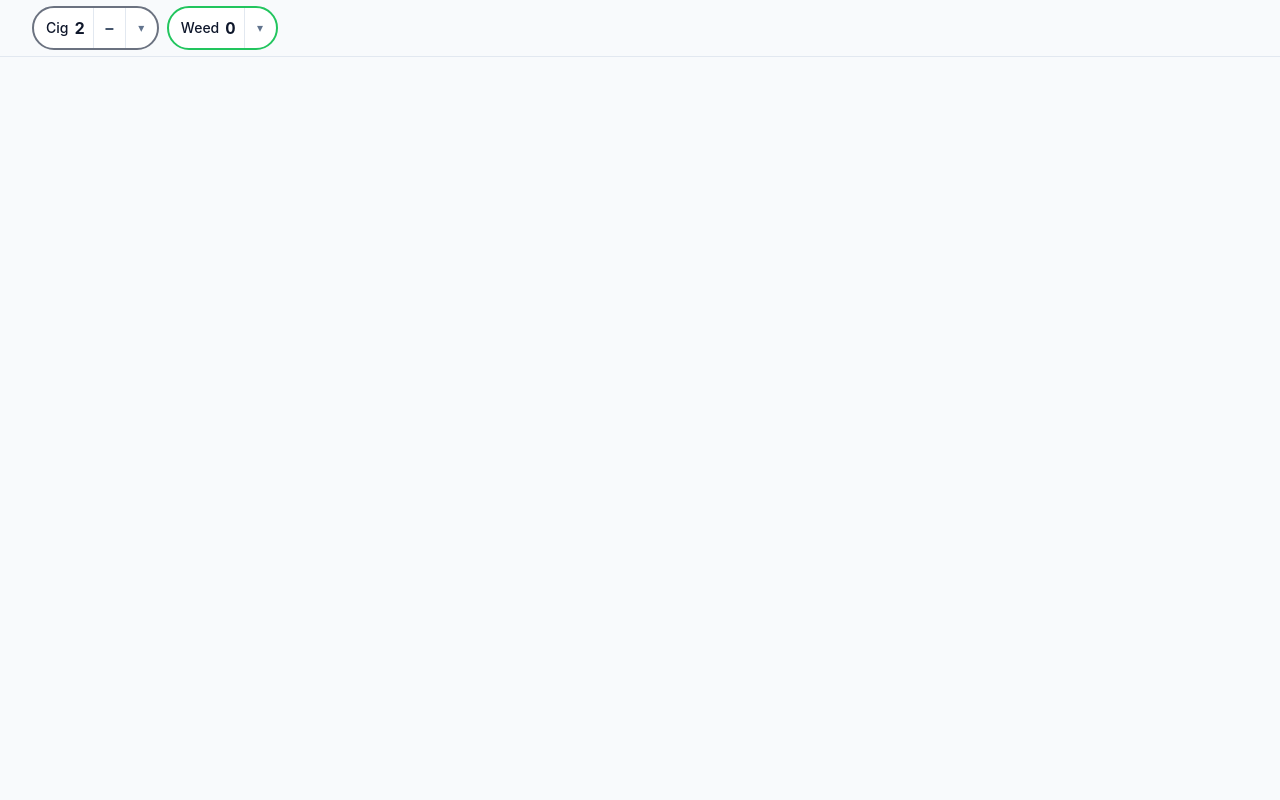
Scenario: counter sheet gaps › shows the longest gap today and the best gap this week
This screenshot has width=1280, height=800.
Click the button named "More for Cigarette" at x=141, y=28, box [125,8,157,48]
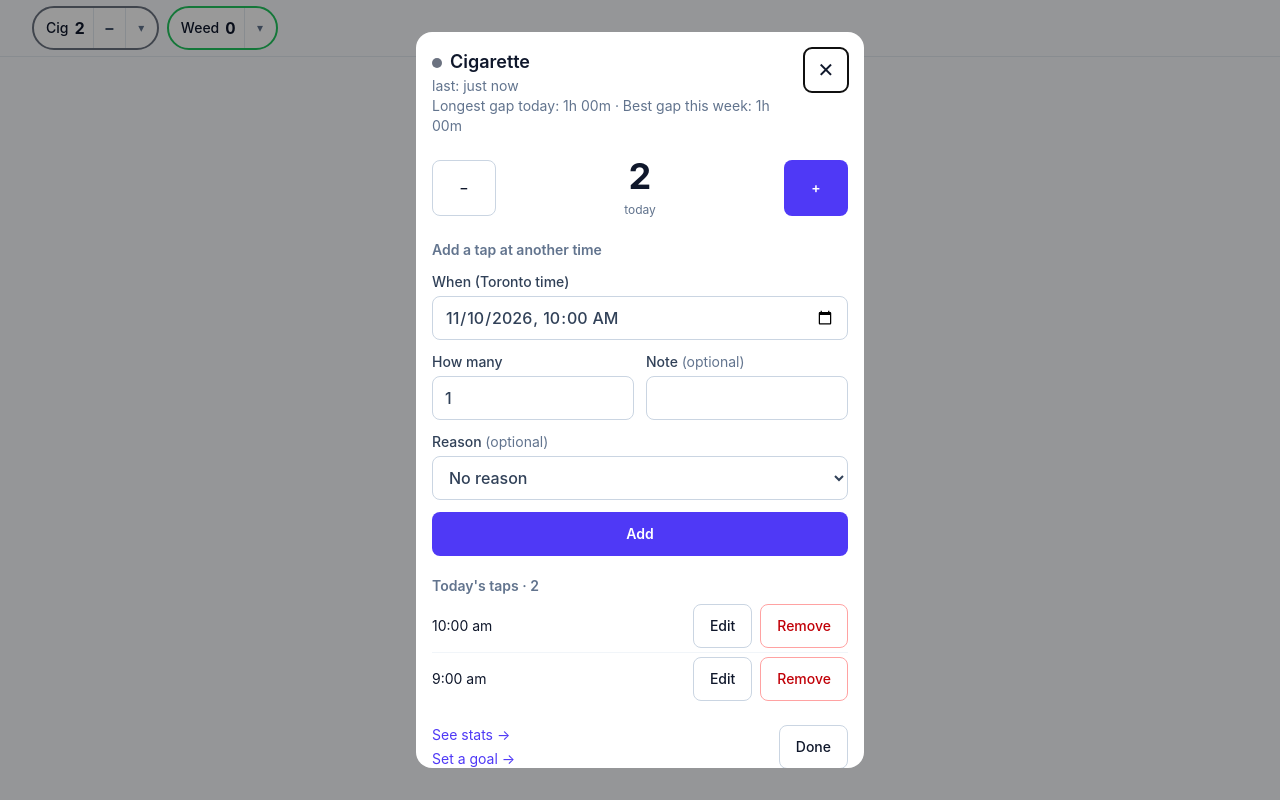
Result: the text "Longest gap today: 1h 00m · Best gap this week: 1h 00m" is shown at [432,96,796,136]
